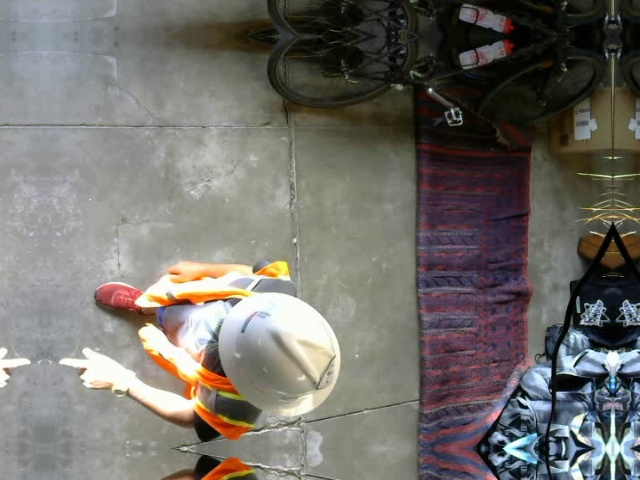three: (316, 354, 336, 389)
